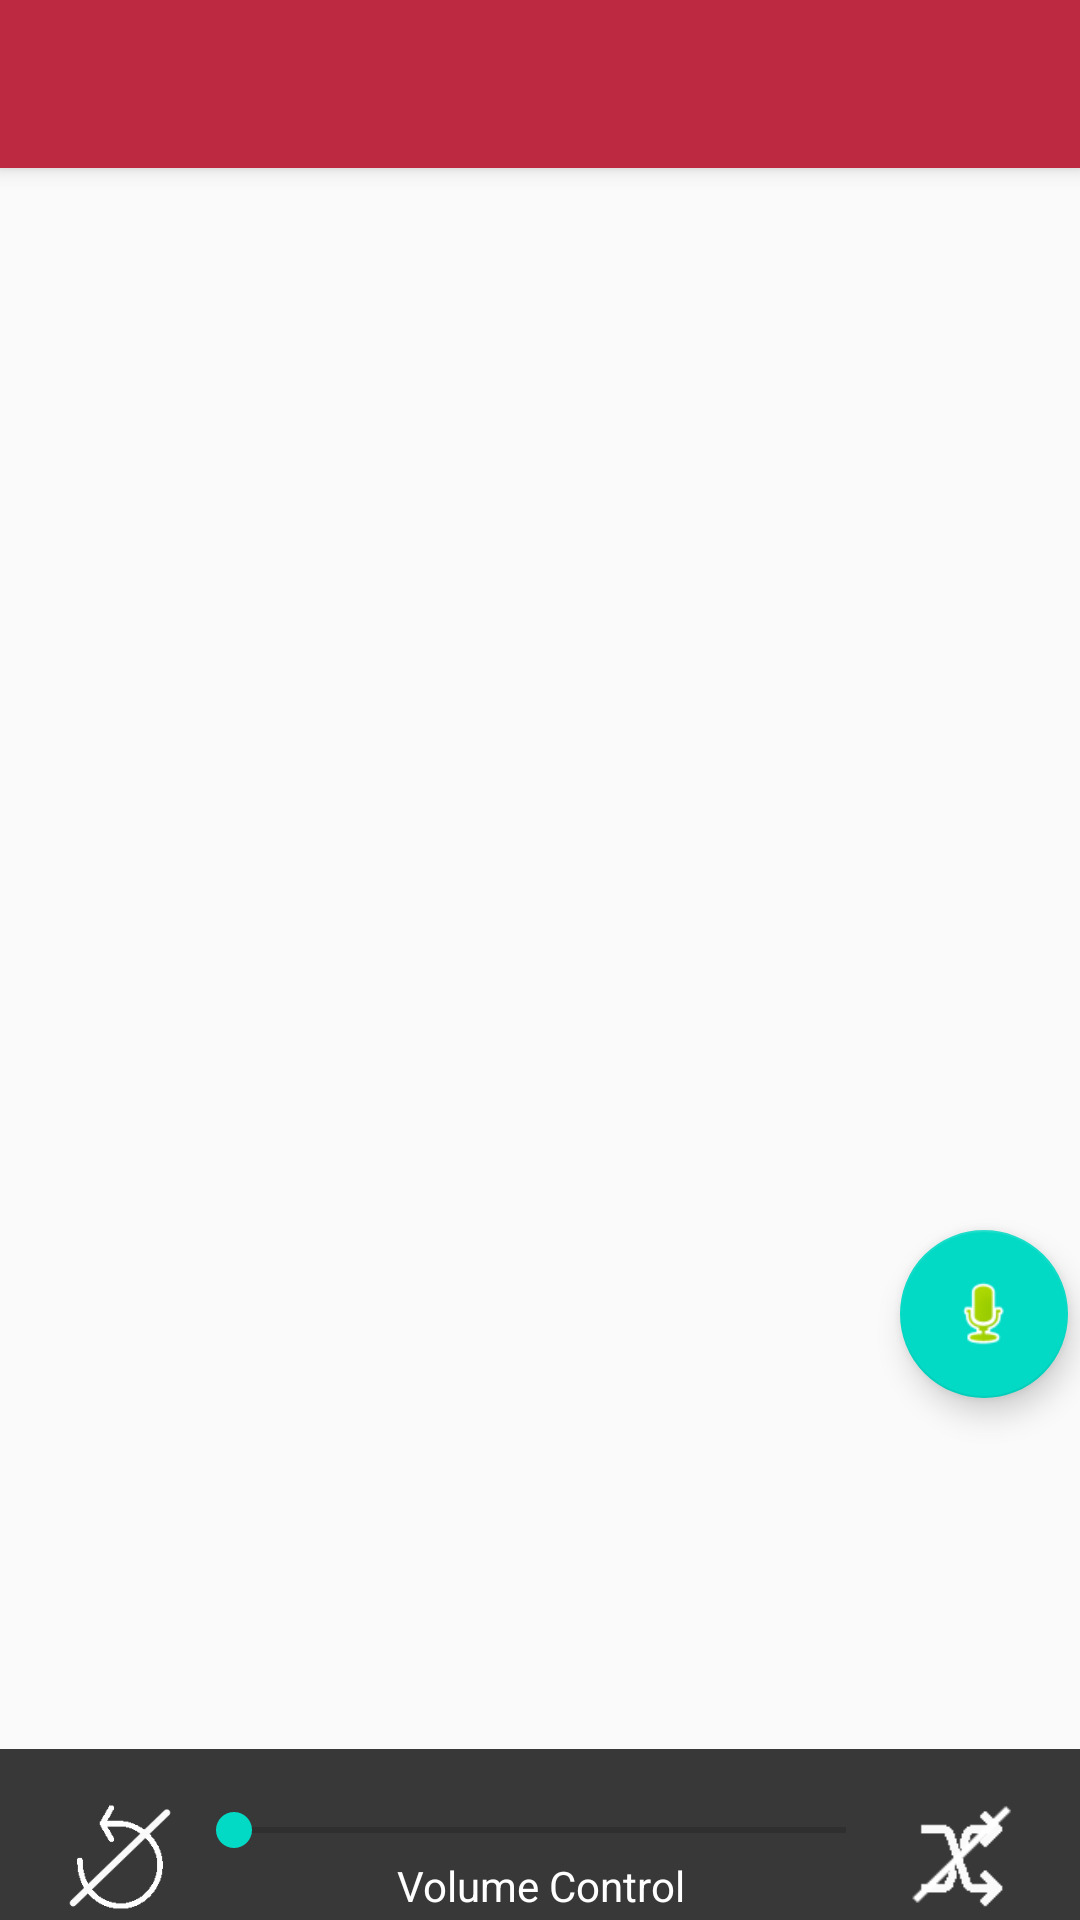

Icon click points for this 1080×1920 phone screenshot, format (x=x, y=y):
presence audio online: (x=984, y=1314)
repeat not: (x=120, y=1857)
shuffle not: (x=961, y=1856)
